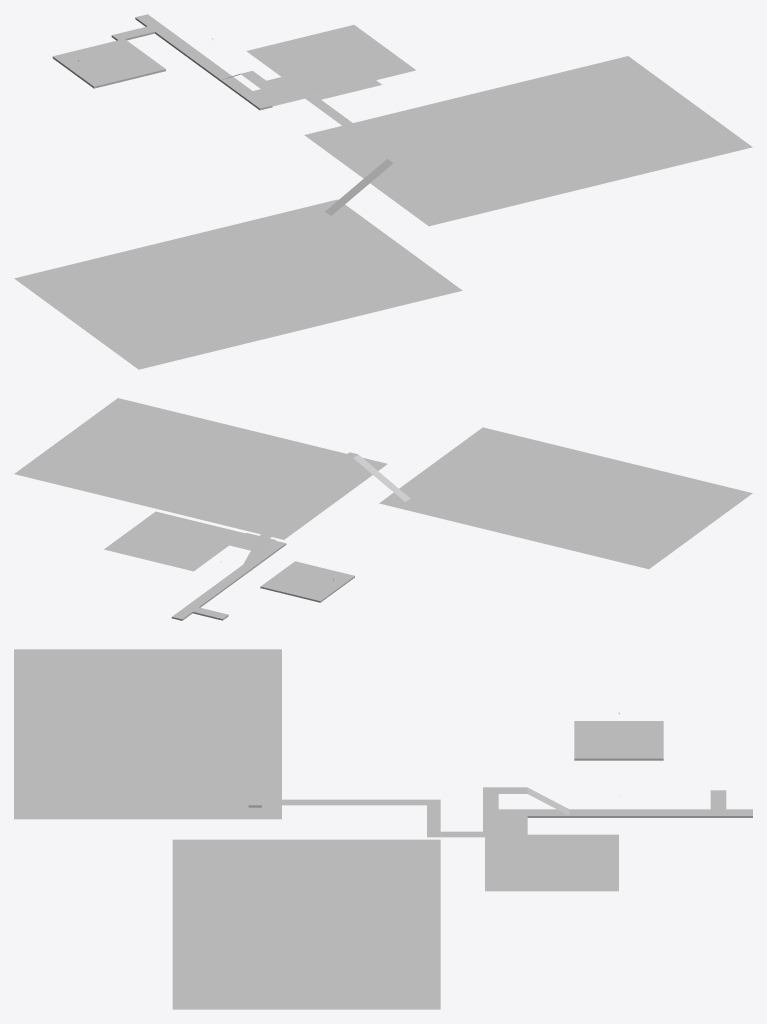
File: MapFloor.obj
3 views of the same model, one above another, from view 1: azimuth 30°, elevation 25°; view 2: azimuth 150°, elevation 25°; view 3: azimuth 270°, elevation 25° (orthographic). The views are drawn at different scales.
Parts seen in each view (by area): view 1: Plane.051_Plane.000, Plane.055_Plane.056, Plane.008_Plane.010, Entrance_Floor_Cube.001, Entrance_Floor.010_Cube.000, Plane.030_Plane.000, Plane.019_Plane.000, Plane.007_Plane.000; view 2: Plane.051_Plane.000, Plane.055_Plane.056, Plane.008_Plane.010, Entrance_Floor_Cube.001, Entrance_Floor.010_Cube.000, Plane.030_Plane.000, Plane.007_Plane.000; view 3: Plane.055_Plane.056, Plane.051_Plane.000, Plane.008_Plane.010, Entrance_Floor_Cube.001, Entrance_Floor.010_Cube.000, Plane.007_Plane.000, Plane.030_Plane.000, Plane.040_Plane.000.
Part boxes in pixels (<box>): Plane.051_Plane.000: <box>14,199,462,369</box>; Plane.055_Plane.056: <box>304,56,752,226</box>; Plane.008_Plane.010: <box>246,25,415,96</box>; Entrance_Floor_Cube.001: <box>52,39,165,88</box>; Entrance_Floor.010_Cube.000: <box>135,14,272,110</box>; Plane.030_Plane.000: <box>325,130,403,215</box>; Plane.019_Plane.000: <box>253,82,308,106</box>; Plane.007_Plane.000: <box>266,60,354,85</box>; Plane.051_Plane.000: <box>379,427,752,569</box>; Plane.055_Plane.056: <box>14,398,387,539</box>; Plane.008_Plane.010: <box>104,511,245,571</box>; Entrance_Floor_Cube.001: <box>260,561,354,602</box>; Entrance_Floor.010_Cube.000: <box>171,541,286,620</box>; Plane.030_Plane.000: <box>315,452,410,502</box>; Plane.007_Plane.000: <box>202,507,276,527</box>; Plane.055_Plane.056: <box>172,839,440,1009</box>; Plane.051_Plane.000: <box>14,649,281,819</box>; Plane.008_Plane.010: <box>485,834,618,891</box>; Entrance_Floor_Cube.001: <box>574,721,663,760</box>; Entrance_Floor.010_Cube.000: <box>498,809,752,817</box>; Plane.007_Plane.000: <box>483,794,498,837</box>; Plane.030_Plane.000: <box>248,799,337,807</box>; Plane.040_Plane.000: <box>337,799,426,805</box>.
Size of the model in its own units: 191 by 13.17 by 166.
